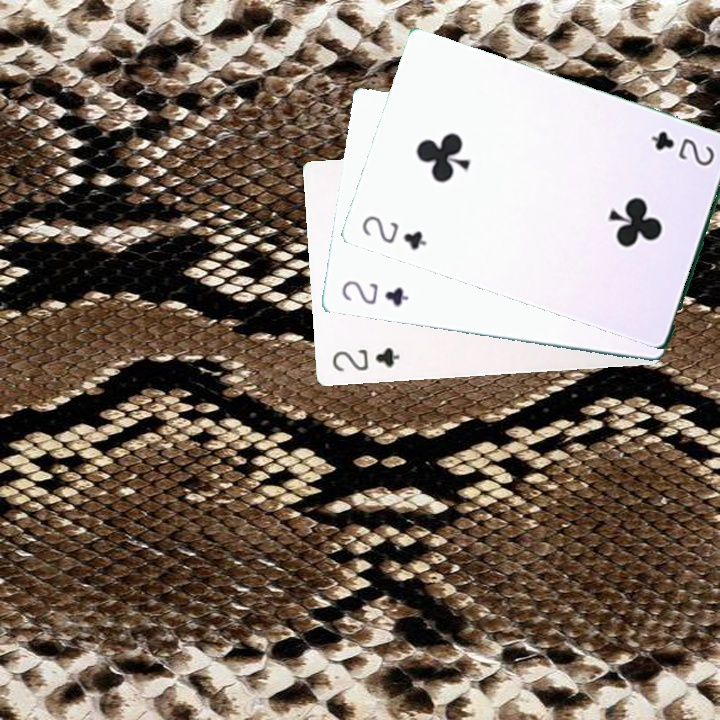2c: (358, 211, 430, 253), (647, 127, 717, 169), (337, 276, 411, 309), (328, 344, 403, 374)
